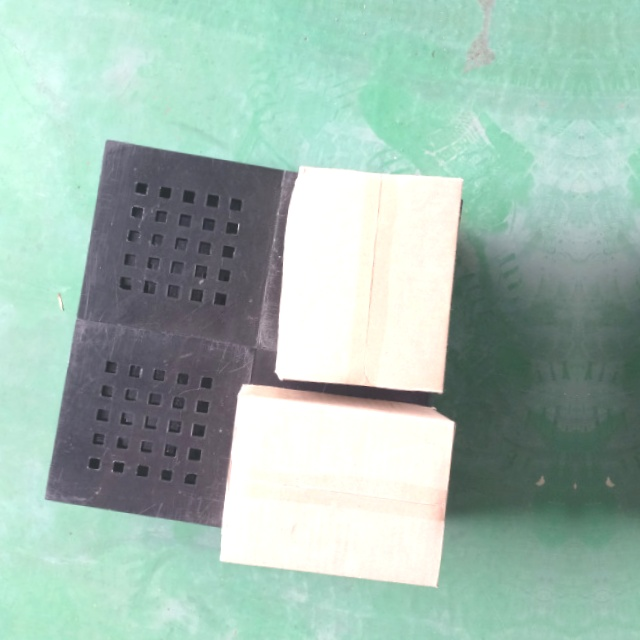box: (215, 384, 460, 594)
pallet: (41, 127, 476, 559)
